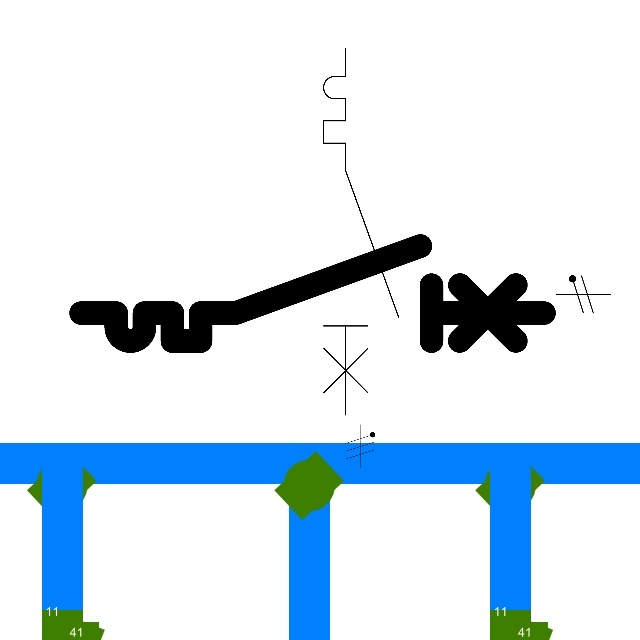interruptor_termomagnetico: (69, 234, 555, 353), (314, 39, 408, 424)
